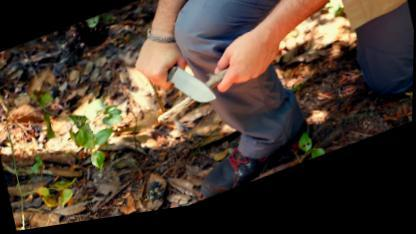knife: (145, 48, 218, 128)
